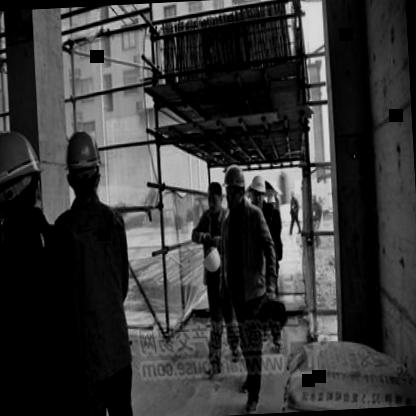head: (202, 180, 224, 218)
helmet: (0, 127, 48, 227), (62, 128, 107, 202), (221, 162, 248, 212), (248, 174, 268, 210)
